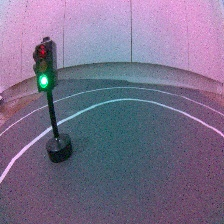green: (32, 36, 76, 165)
